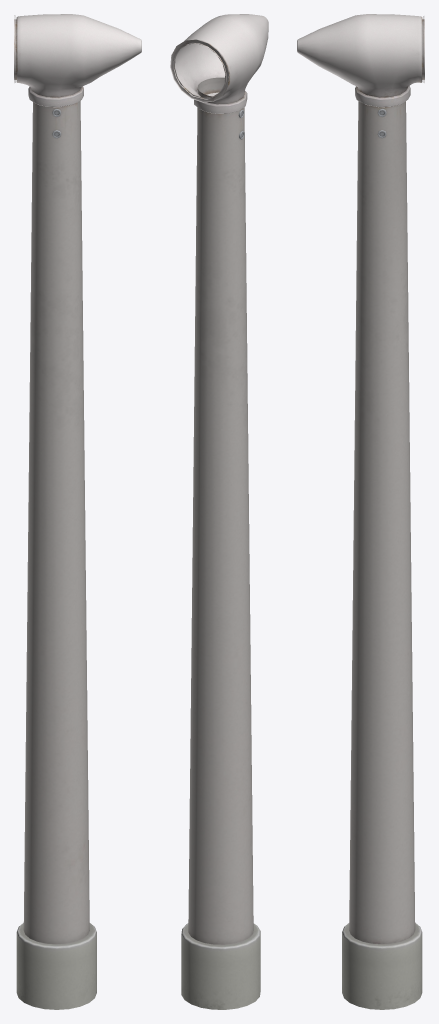
The model's file is wind-turbine-pillar.glb.
3 renders of one model, left to right at view 1: azimuth 90°, elevation 25°; view 2: azimuth 150°, elevation 25°; view 3: azimuth 270°, elevation 25°, orthographic.
Visible parts, largest first — view 1: Wind_Turbine__LOD3; view 2: Wind_Turbine__LOD3; view 3: Wind_Turbine__LOD3.
Part boxes in pixels (x1,y1,x2,y2): Wind_Turbine__LOD3: [14, 14, 141, 1009]; Wind_Turbine__LOD3: [170, 14, 268, 1009]; Wind_Turbine__LOD3: [297, 14, 424, 1009].
Bounding box in the file's own units: 0.9893 × 13.29 × 1.58.
Materials: 1 (1 with a texture image).
